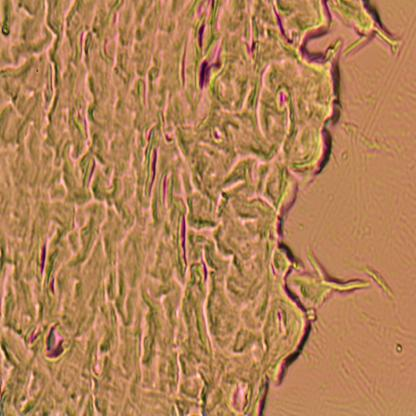Stage III: (0, 0, 326, 416)
